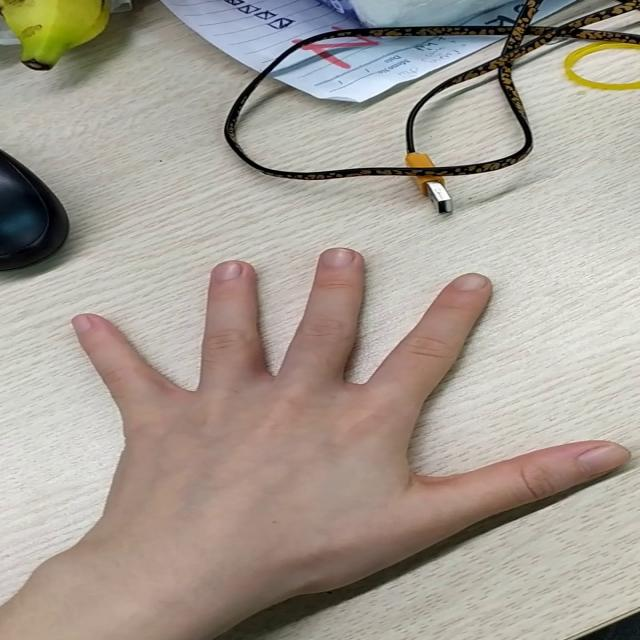hand: (61, 242, 636, 577)
